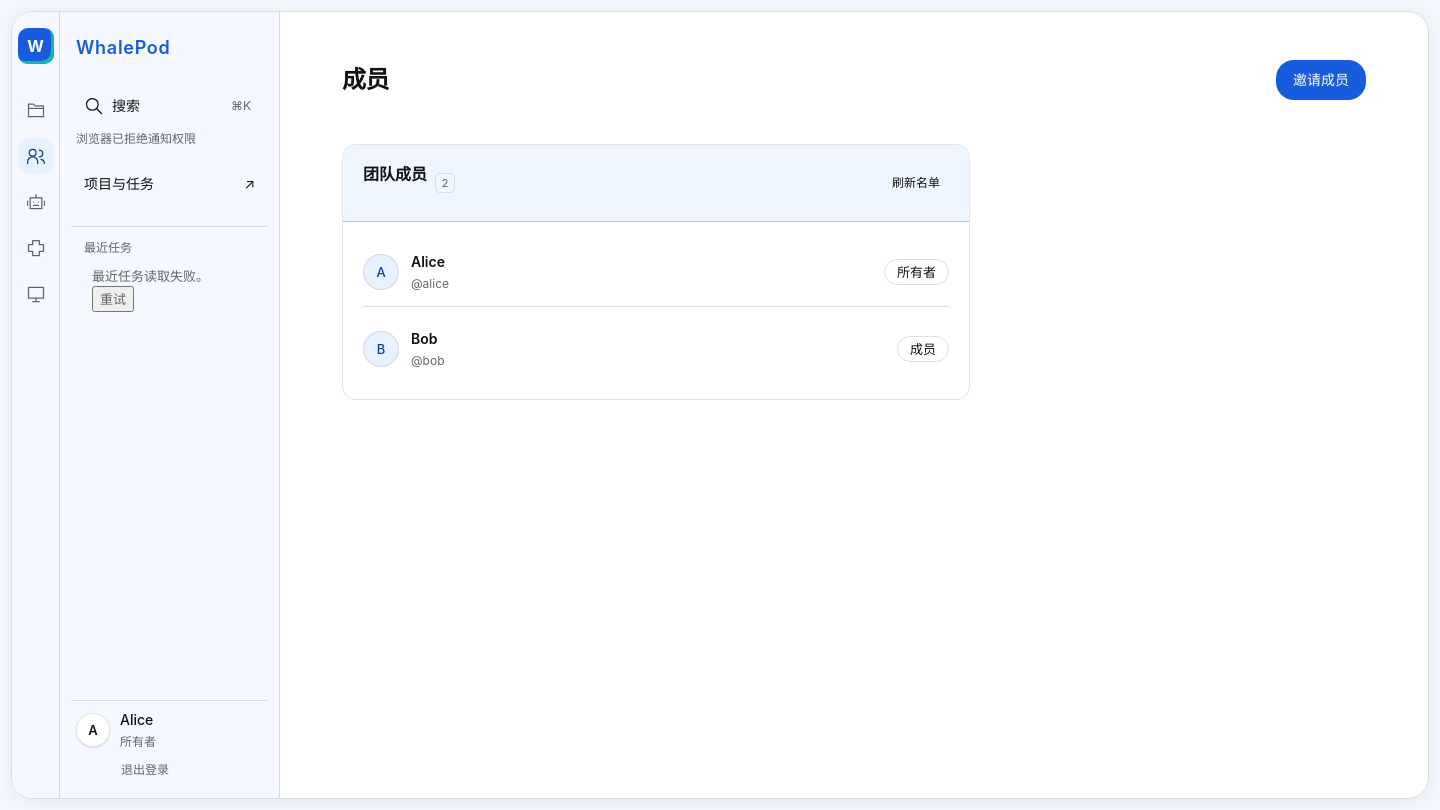
Test: members-page › 复制失败如实报错，不伪造「已复制」
Click the button "邀请成员". click: (1321, 80)
box: [1276,60,1366,100]
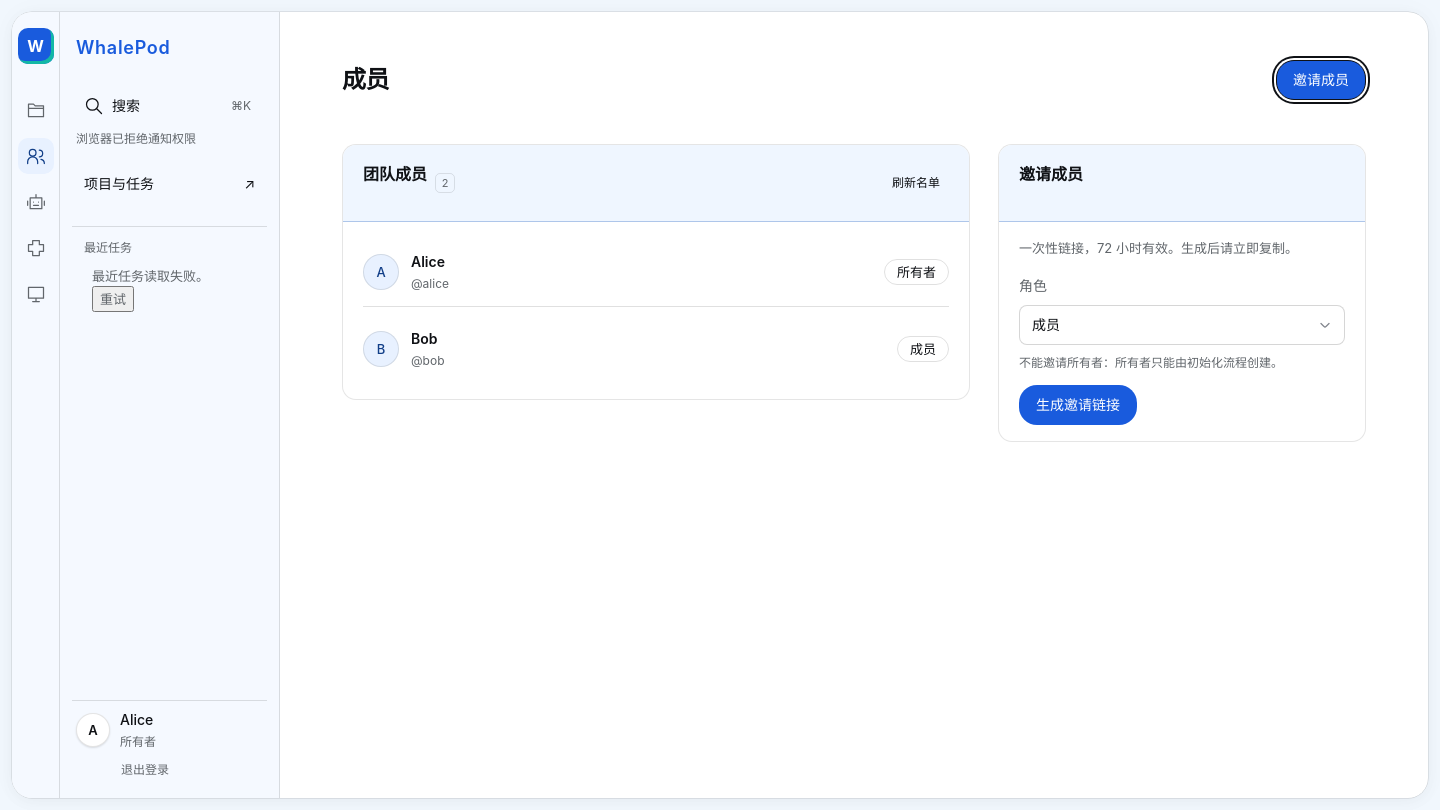
Click the button "生成邀请链接". click: (1078, 405)
box: [1019,385,1137,425]
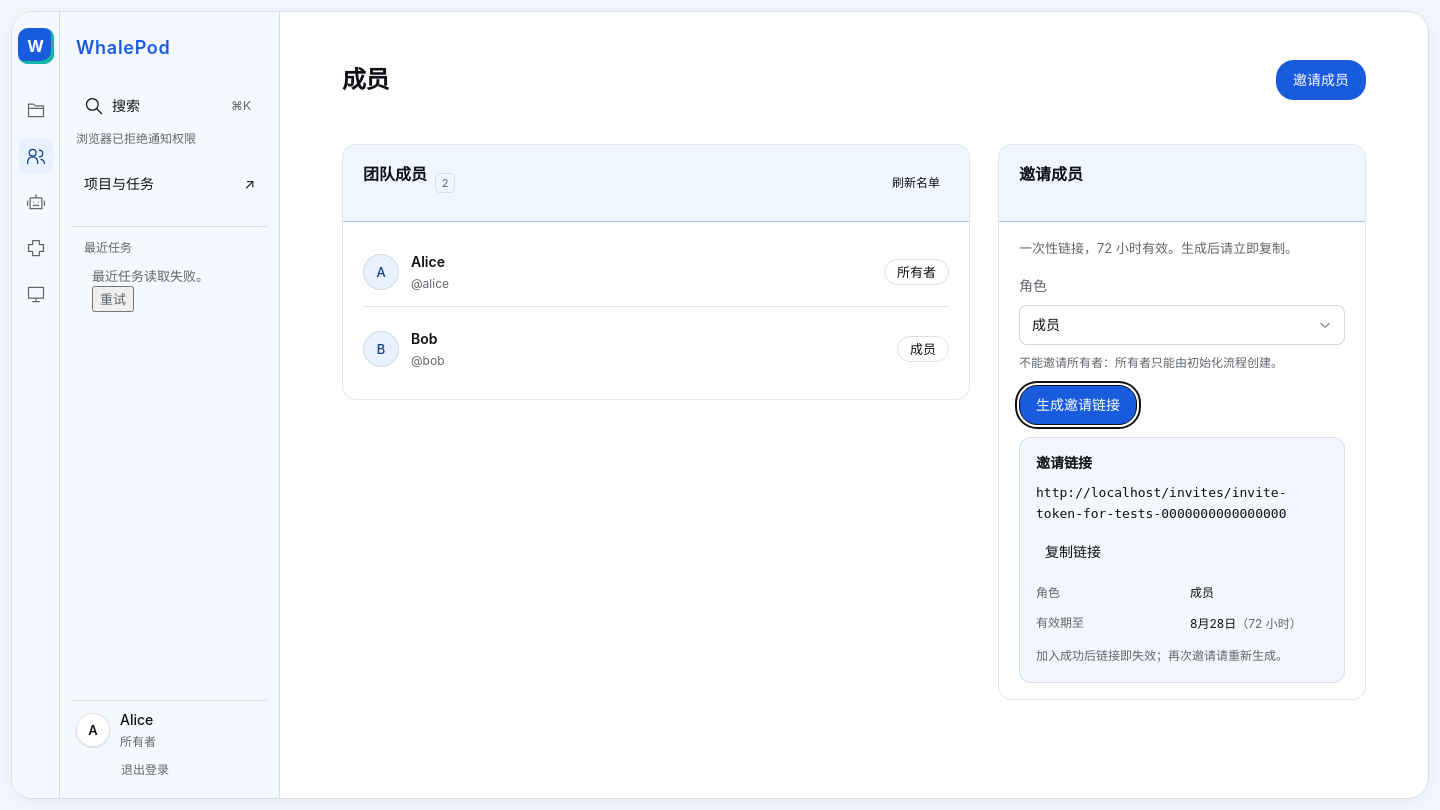
Click the button with aria-label "复制成员邀请链接". click: (1073, 552)
box: [1036,532,1110,572]
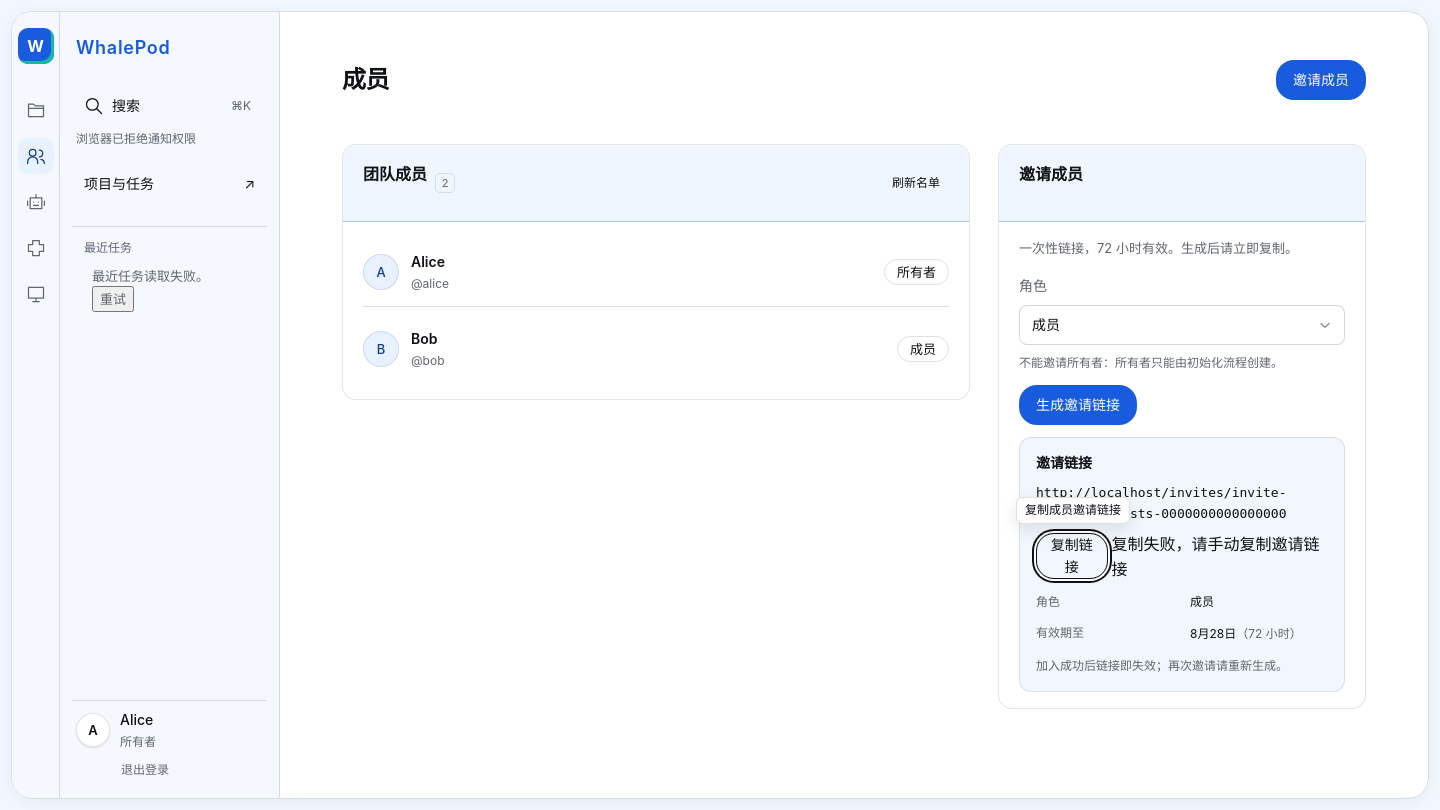
Expected: the text "复制失败，请手动复制邀请链接" is shown, [1112,532,1328,581]
